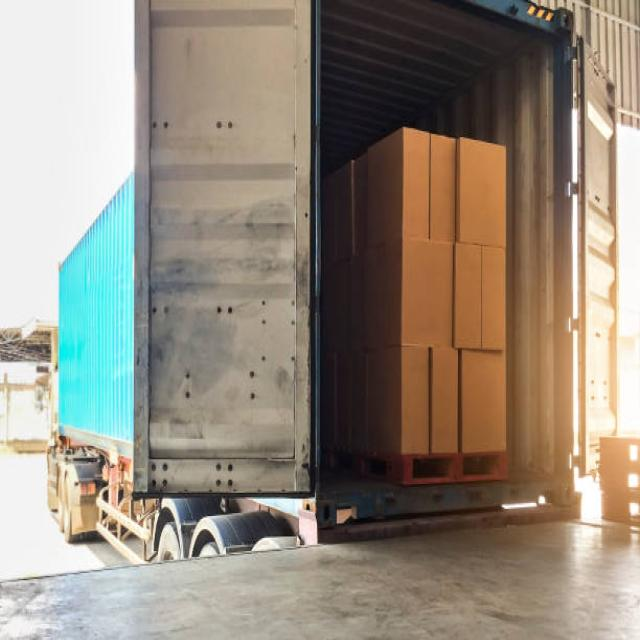Wooden-Pallets: (397, 449, 510, 487)
